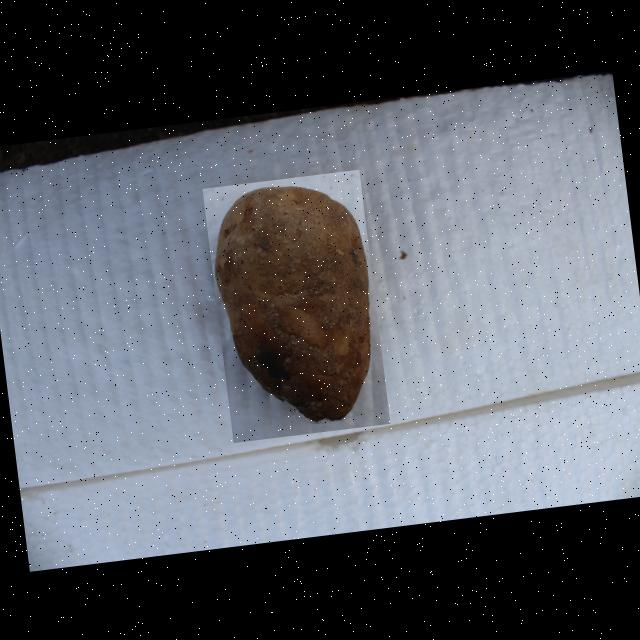Diseased-fungal potato: (200, 168, 390, 442)
